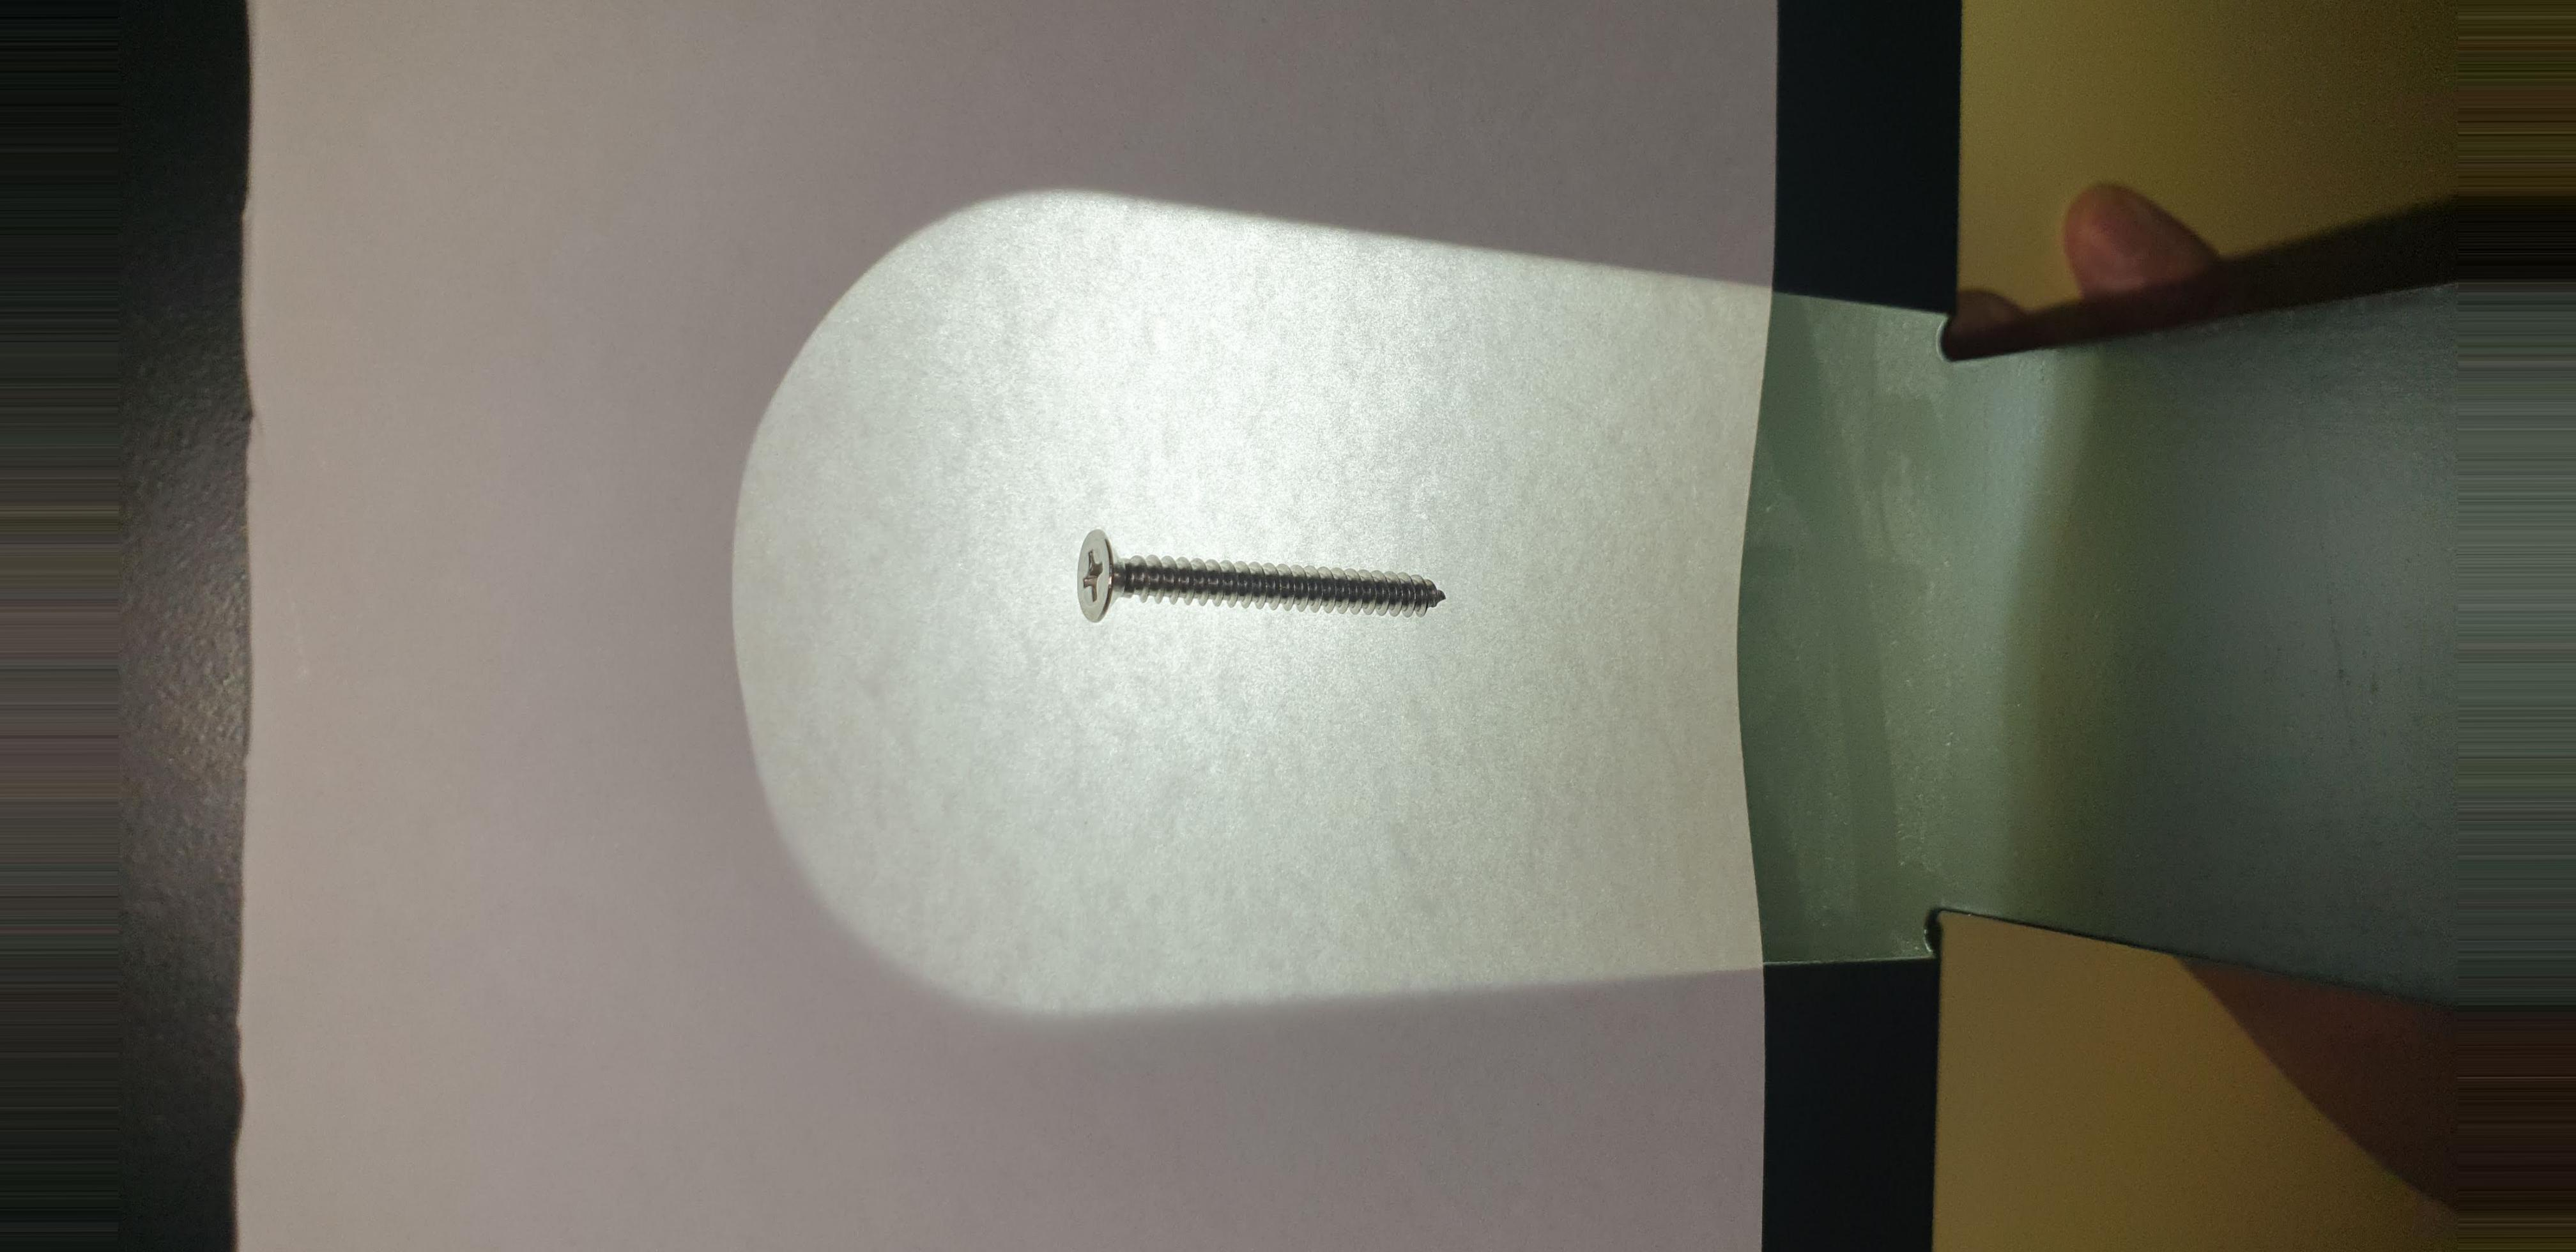fastener: (1033, 511, 1493, 644)
